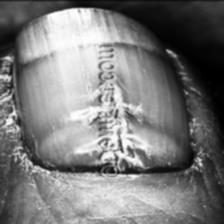Toxin: (116, 83, 154, 169), (69, 80, 100, 162)
